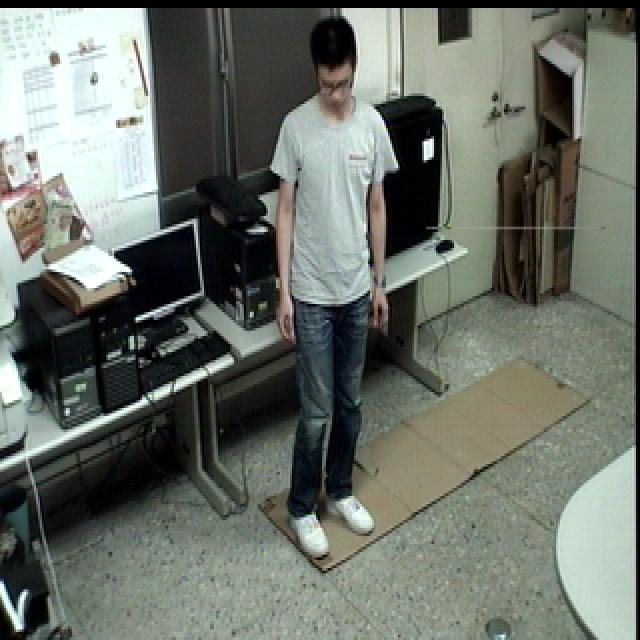stand: (263, 10, 396, 571)
